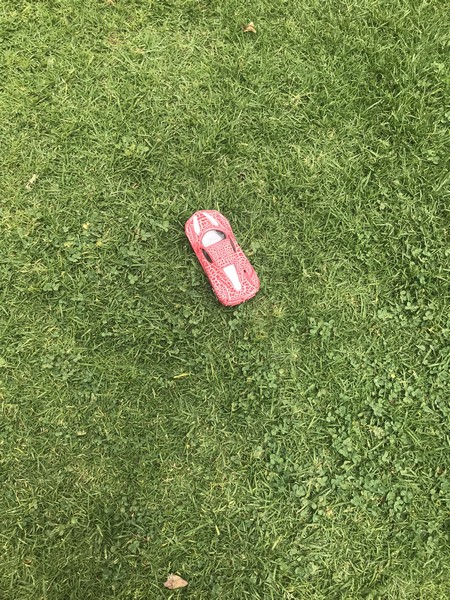RC: (182, 208, 262, 309)
